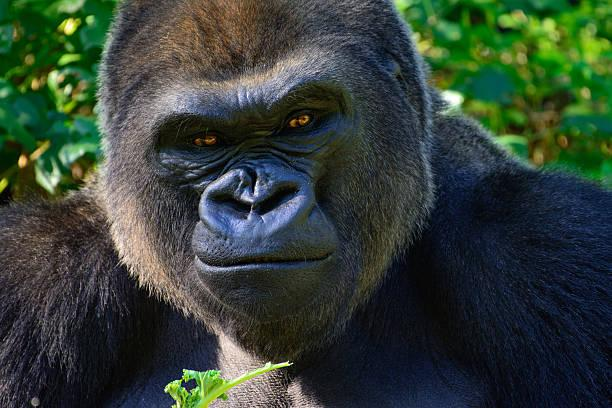goriile_montagne: (7, 2, 607, 408)
